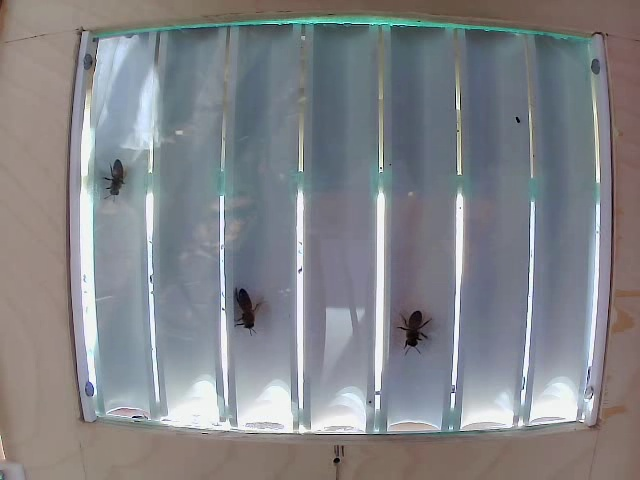bee: (230, 277, 271, 339), (101, 154, 138, 207), (399, 315, 434, 361)
